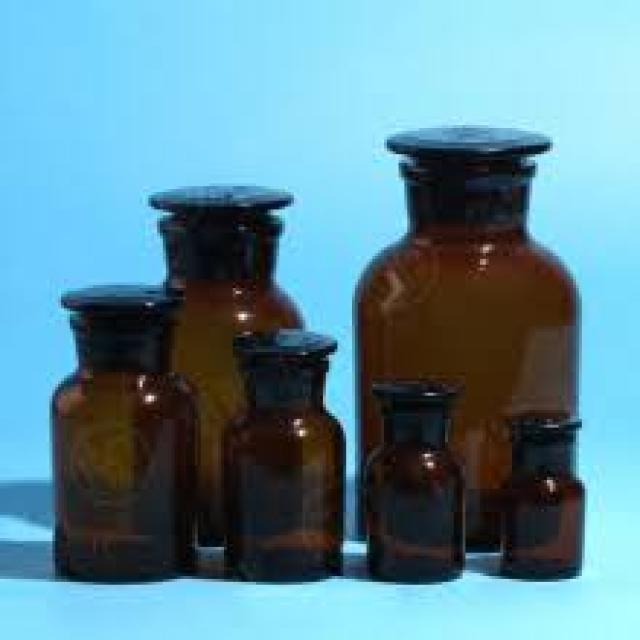glass: (352, 125, 579, 547), (146, 183, 303, 544), (49, 282, 192, 579), (219, 326, 341, 579), (364, 378, 463, 576), (497, 410, 582, 579)
